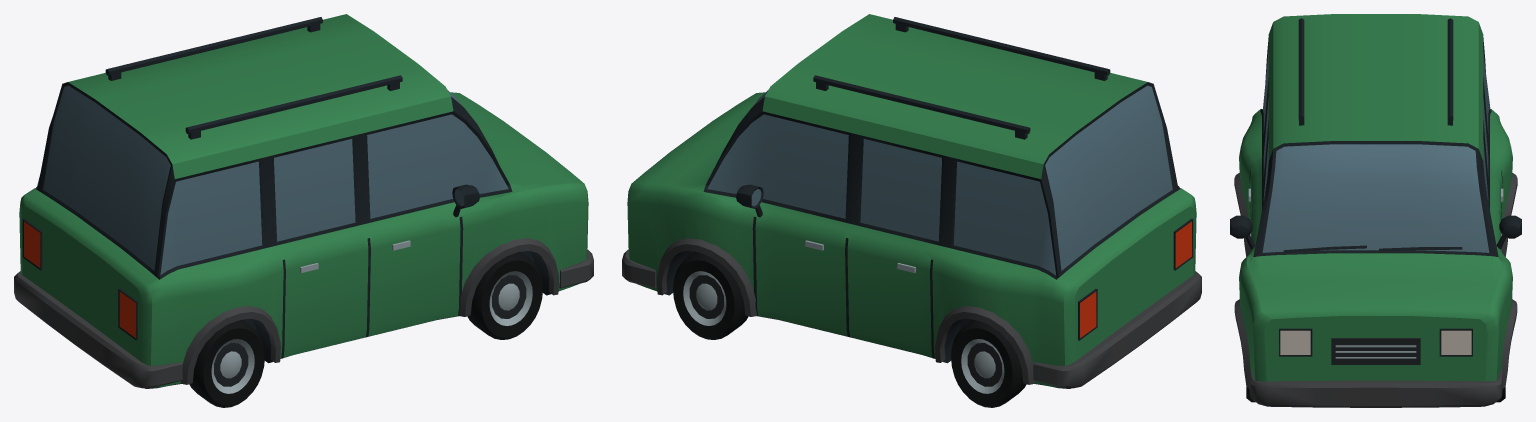
File: cute-car-suv-crafted.glb
The picture shows the model from 3 angles, left to right: view 1: azimuth 30°, elevation 25°; view 2: azimuth 150°, elevation 25°; view 3: azimuth 270°, elevation 25°; orthographic projection. The views are drawn at different scales.
Parts seen in each view (by area): view 1: tripo_node_a2420114-f0df-4cc1-8287-48860f2a61e7; view 2: tripo_node_a2420114-f0df-4cc1-8287-48860f2a61e7; view 3: tripo_node_a2420114-f0df-4cc1-8287-48860f2a61e7.
Part boxes in pixels (left/top/right/bottom): tripo_node_a2420114-f0df-4cc1-8287-48860f2a61e7: left=14, top=14, right=593, bottom=407; tripo_node_a2420114-f0df-4cc1-8287-48860f2a61e7: left=622, top=14, right=1201, bottom=407; tripo_node_a2420114-f0df-4cc1-8287-48860f2a61e7: left=1230, top=14, right=1521, bottom=407.
Bounding box in the file's own units: 1 × 0.546 × 0.5851.
1 material, 1 textured.
